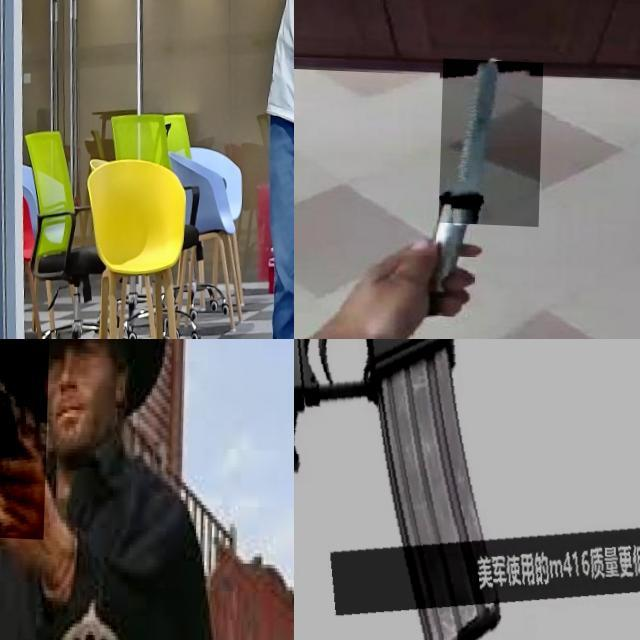-: (442, 55, 546, 224)
gun-knife-thesis - v11 Yolov5 augmented: (294, 339, 640, 640), (0, 339, 62, 536), (131, 0, 193, 41)
